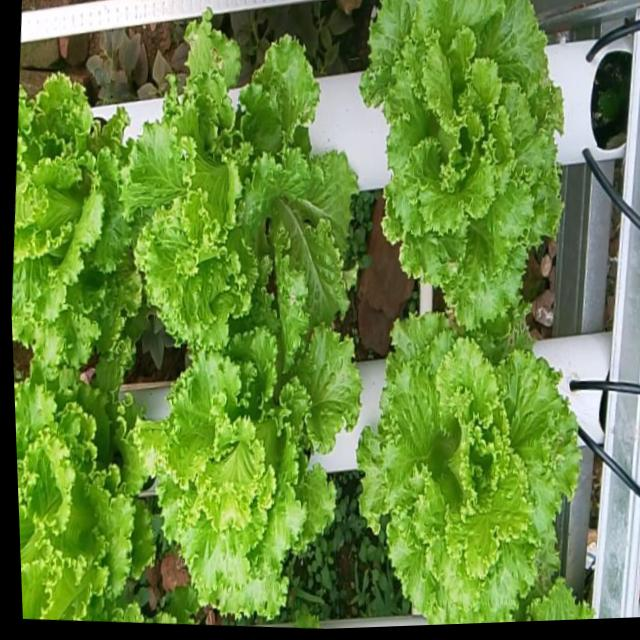Mature: (123, 3, 357, 349), (356, 312, 581, 625), (359, 0, 564, 333), (135, 327, 361, 622), (11, 75, 140, 369), (14, 351, 153, 620)
